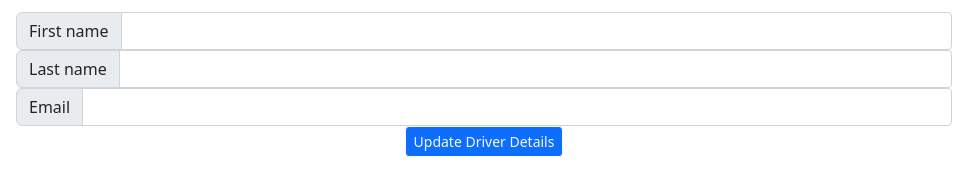
Test case: Update Form › Should Verify Update Driver Render Validation
This screenshot has width=969, height=174.
Click the button with test id "driver-update-button": (484, 142) [404,126,563,157]
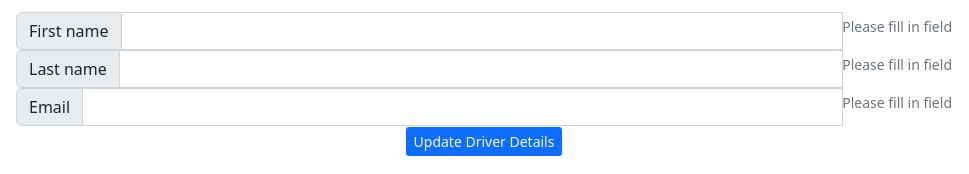
Expected: the text with test id "firstNameVal" reads "Please fill in field", [842,17,952,36]
Expected: the text with test id "lastNameVal" reads "Please fill in field", [842,55,952,74]
Expected: the text with test id "emailVal" reads "Please fill in field", [842,93,952,112]
